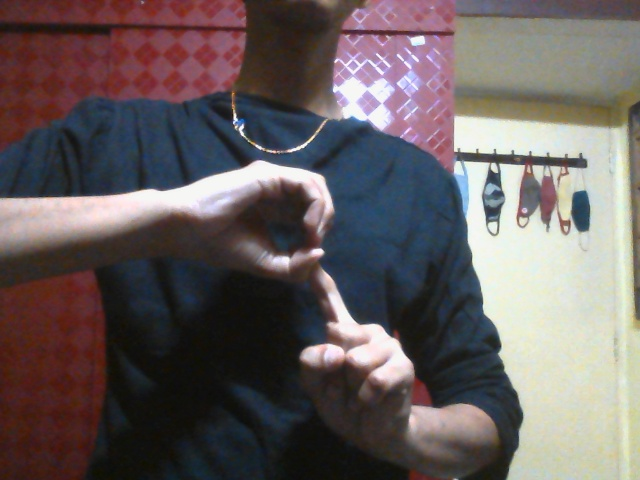Q: (188, 160, 417, 452)
